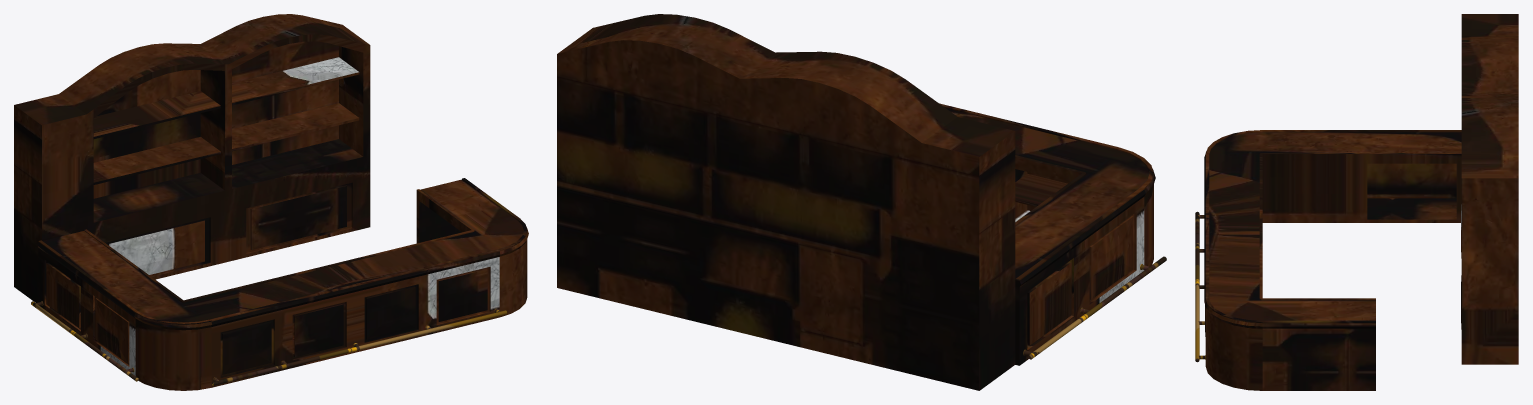
Rendered from balcao.glb.
3 renders of one model, left to right at view 1: azimuth 30°, elevation 25°; view 2: azimuth 150°, elevation 25°; view 3: azimuth 270°, elevation 25°, orthographic. The views are drawn at different scales.
Parts seen in each view (by area): view 1: Pult_low, Fem_low; view 2: Pult_low, Fem_low; view 3: Pult_low, Fem_low.
Part boxes in pixels (x1=…): Pult_low: x1=14, y1=14, x2=528, y2=390; Fem_low: x1=31, y1=301, x2=506, y2=385; Pult_low: x1=557, y1=14, x2=1155, y2=390; Fem_low: x1=1023, y1=256, x2=1166, y2=359; Pult_low: x1=1204, y1=14, x2=1518, y2=390; Fem_low: x1=1195, y1=211, x2=1205, y2=362.
Size of the model in its own units: 2 by 1.01 by 1.39.
Materials: 2 (2 with a texture image).
